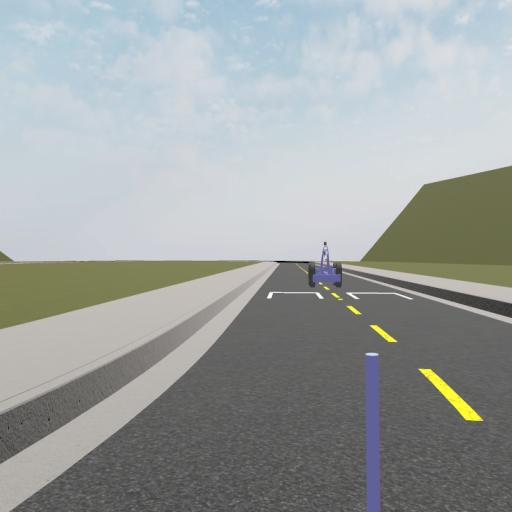ERP-42: (308, 244, 342, 287)
